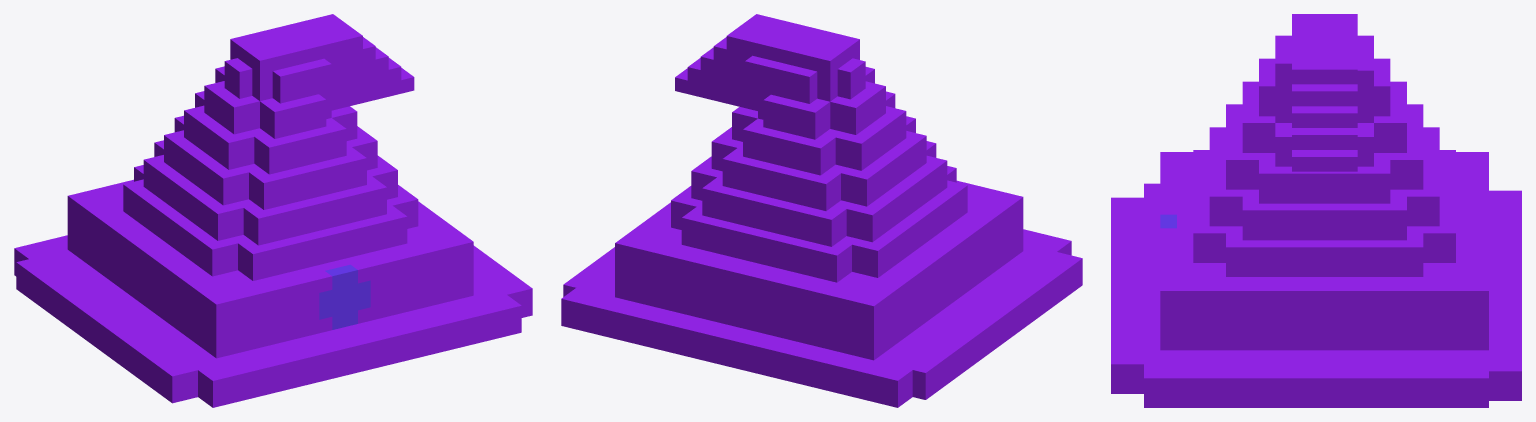
3 renders of one model, left to right at view 1: azimuth 30°, elevation 25°; view 2: azimuth 150°, elevation 25°; view 3: azimuth 270°, elevation 25°, orthographic. The views are drawn at different scales.
Visible parts, largest first — view 1: 61; view 2: 61; view 3: 61.
Boxes of the visible parts, left/top/right/bottom form: 61: left=14, top=14, right=532, bottom=407; 61: left=561, top=14, right=1082, bottom=407; 61: left=1111, top=14, right=1521, bottom=407.
Size of the model in its own units: 2.8 by 1.9 by 2.5.
Materials: 1 (1 with a texture image).
